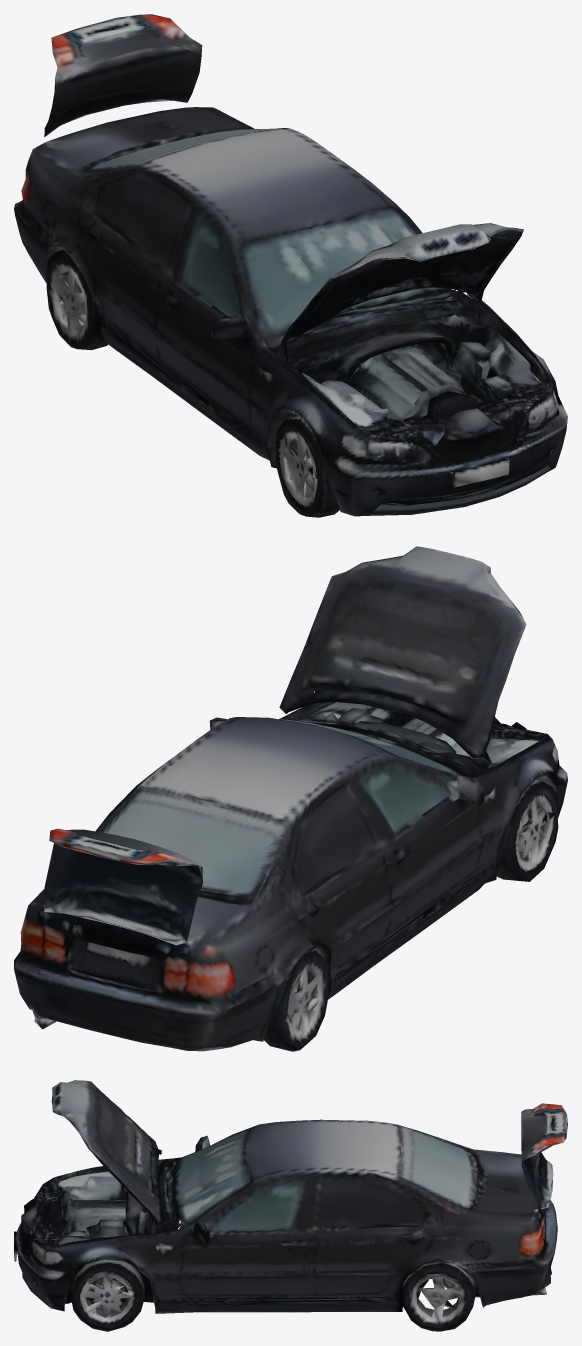
The model's file is mobil_kap_buka.glb.
The picture shows the model from 3 angles, top to bottom: view 1: azimuth 30°, elevation 25°; view 2: azimuth 150°, elevation 25°; view 3: azimuth 270°, elevation 25°; orthographic projection. The views are drawn at different scales.
Parts seen in each view (by area): view 1: tripo_node_d769bdaf; view 2: tripo_node_d769bdaf; view 3: tripo_node_d769bdaf.
Part boxes in pixels (bbox=[...]): tripo_node_d769bdaf: bbox=[14, 14, 567, 517]; tripo_node_d769bdaf: bbox=[14, 546, 567, 1051]; tripo_node_d769bdaf: bbox=[14, 1080, 567, 1331].
Bounding box in the file's own units: 40.69 × 39.69 × 99.92.
1 material, 1 textured.
